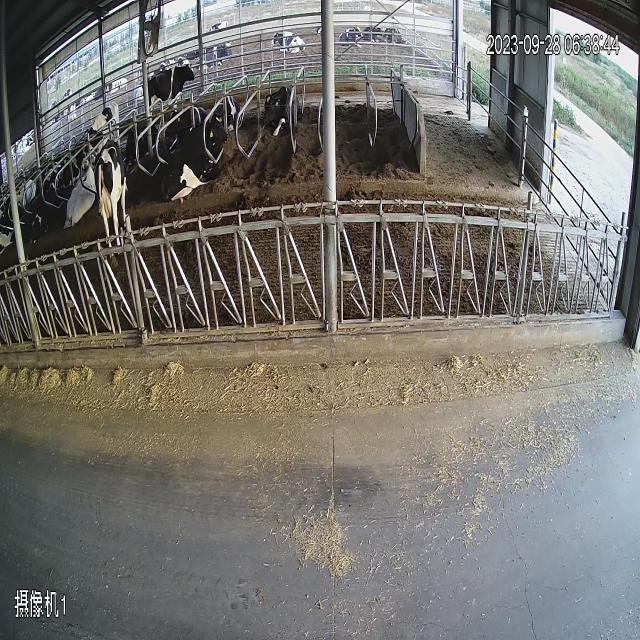lying down: (160, 101, 245, 247), (257, 74, 308, 152), (66, 154, 94, 238), (267, 20, 312, 60), (24, 200, 52, 259), (338, 20, 367, 52), (364, 16, 384, 49), (212, 42, 236, 68), (104, 77, 130, 96)
standing: (87, 128, 138, 243), (140, 50, 210, 110)
